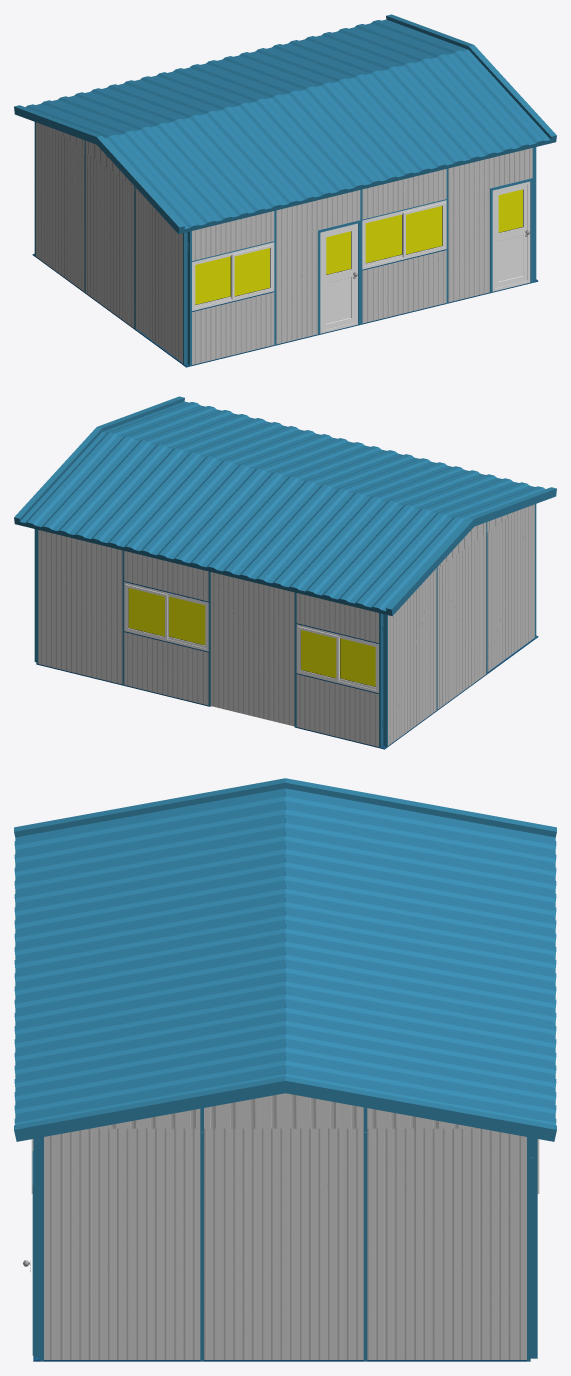
File: huodongbanfang.glb
The picture shows the model from 3 angles, top to bottom: view 1: azimuth 30°, elevation 25°; view 2: azimuth 150°, elevation 25°; view 3: azimuth 270°, elevation 25°; orthographic projection. The views are drawn at different scales.
Visible parts, largest first — view 1: Obj3d66-595829-520-924, Obj3d66-595829-521-334, Obj3d66-595829-80-347, Obj3d66-595829-102-687, Obj3d66-595829-254-151, Obj3d66-595829-142-908, Obj3d66-595829-2-841, Obj3d66-595829-186-751, Obj3d66-595829-138-434, Obj3d66-595829-184-814, Obj3d66-595829-133-982, Obj3d66-595829-144-233 (+25 smaller); view 2: Obj3d66-595829-521-334, Obj3d66-595829-520-924, Obj3d66-595829-333-188, Obj3d66-595829-291-488, Obj3d66-595829-80-347, Obj3d66-595829-254-151, Obj3d66-595829-102-687, Obj3d66-595829-276-108, Obj3d66-595829-334-250, Obj3d66-595829-299-307, Obj3d66-595829-331-872, Obj3d66-595829-450-250 (+13 smaller); view 3: Obj3d66-595829-521-334, Obj3d66-595829-520-924, Obj3d66-595829-202-925, Obj3d66-595829-224-78, Obj3d66-595829-254-150, Obj3d66-595829-451-747, Obj3d66-595829-470-308, Obj3d66-595829-450-250, Obj3d66-595829-188-109, Obj3d66-595829-233-257, Obj3d66-595829-199-129, Obj3d66-595829-196-991 (+2 smaller).
Part boxes in pixels (x1,y1,x2,y2): Obj3d66-595829-520-924: (105, 50, 550, 229); Obj3d66-595829-521-334: (25, 19, 468, 138); Obj3d66-595829-80-347: (85, 152, 134, 327); Obj3d66-595829-102-687: (36, 122, 84, 291); Obj3d66-595829-254-151: (135, 189, 182, 362); Obj3d66-595829-142-908: (362, 250, 446, 323); Obj3d66-595829-2-841: (192, 292, 274, 364); Obj3d66-595829-186-751: (448, 188, 489, 302); Obj3d66-595829-138-434: (276, 230, 317, 344); Obj3d66-595829-184-814: (448, 148, 532, 198); Obj3d66-595829-133-982: (276, 190, 360, 240); Obj3d66-595829-144-233: (362, 169, 446, 219); Obj3d66-595829-521-334: (20, 432, 465, 611); Obj3d66-595829-520-924: (102, 401, 545, 520); Obj3d66-595829-333-188: (38, 530, 122, 684); Obj3d66-595829-291-488: (210, 572, 294, 726); Obj3d66-595829-80-347: (437, 533, 486, 709); Obj3d66-595829-254-151: (487, 504, 534, 671); Obj3d66-595829-102-687: (388, 570, 436, 745); Obj3d66-595829-276-108: (124, 632, 208, 705); Obj3d66-595829-334-250: (296, 674, 378, 746); Obj3d66-595829-299-307: (124, 551, 208, 601); Obj3d66-595829-331-872: (296, 593, 378, 642); Obj3d66-595829-450-250: (386, 487, 556, 616); Obj3d66-595829-521-334: (285, 788, 556, 1125); Obj3d66-595829-520-924: (14, 788, 285, 1125); Obj3d66-595829-202-925: (204, 1128, 363, 1359); Obj3d66-595829-224-78: (367, 1128, 526, 1359); Obj3d66-595829-254-150: (44, 1128, 200, 1359); Obj3d66-595829-451-747: (14, 1076, 556, 1141); Obj3d66-595829-470-308: (91, 1093, 479, 1128); Obj3d66-595829-450-250: (14, 778, 556, 837); Obj3d66-595829-188-109: (33, 1137, 40, 1356); Obj3d66-595829-233-257: (530, 1137, 537, 1358); Obj3d66-595829-199-129: (363, 1128, 367, 1361); Obj3d66-595829-196-991: (200, 1128, 203, 1361).
Bounding box in the file's own units: 0.9991 × 0.4484 × 0.7576.
10 materials, 3 textured.
